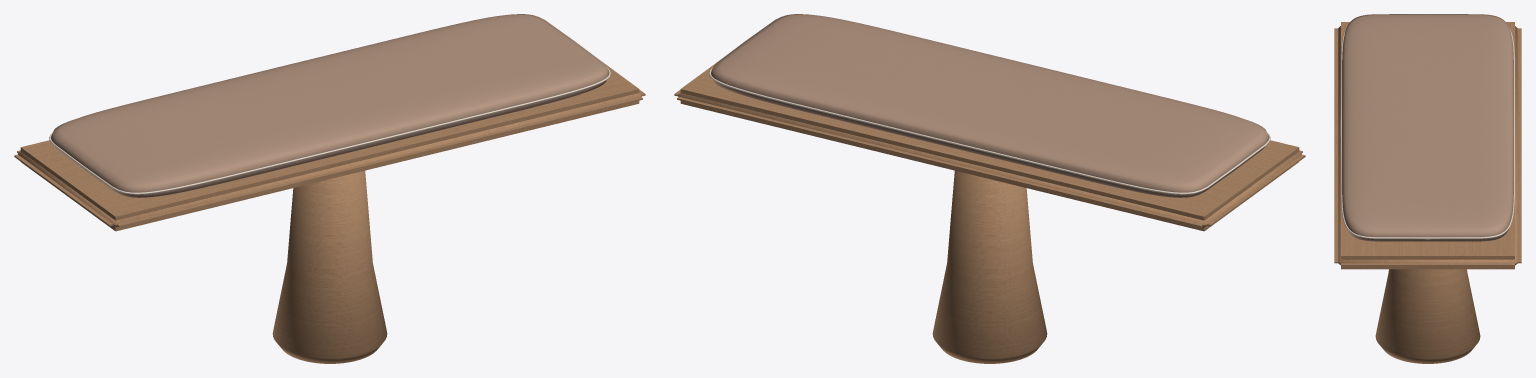
File: contemporary.bench.gltf
3 views of the same model, side by side, from view 1: azimuth 30°, elevation 25°; view 2: azimuth 150°, elevation 25°; view 3: azimuth 270°, elevation 25° (orthographic). The views are drawn at different scales.
Parts seen in each view (by area): view 1: contemporary.bench.rounded-top; view 2: contemporary.bench.rounded-top; view 3: contemporary.bench.rounded-top.
Boxes of the visible parts, <box> form: contemporary.bench.rounded-top: <box>14,14,645,363</box>; contemporary.bench.rounded-top: <box>674,14,1305,363</box>; contemporary.bench.rounded-top: <box>1334,14,1521,363</box>.
Size of the model in its own units: 1.15 by 0.5075 by 0.38.
3 materials, 2 textured.
